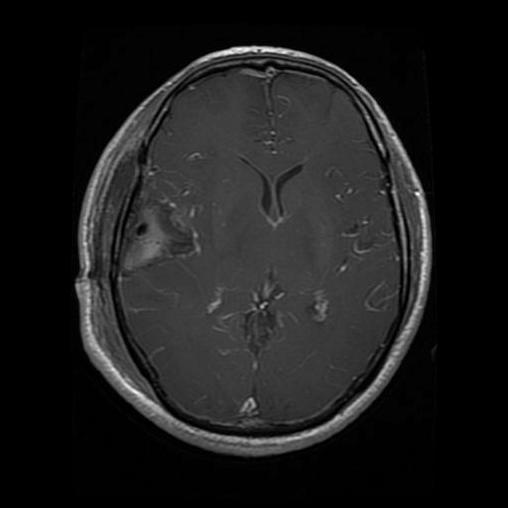Tumour-Glioma: (103, 184, 195, 286)
